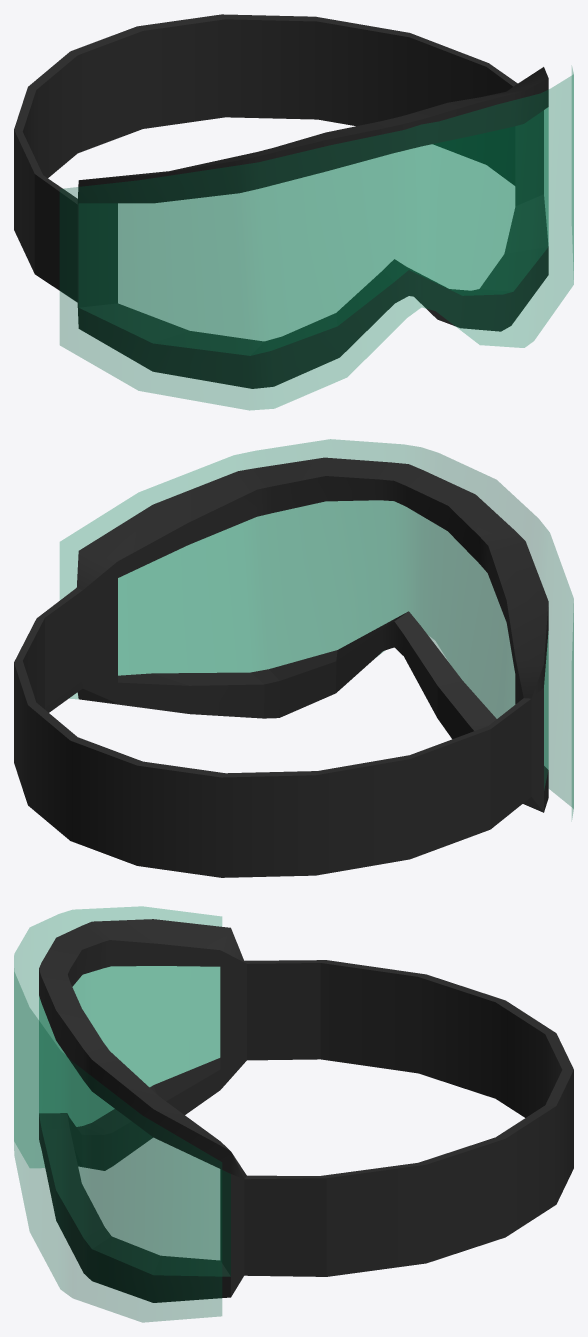
The model's file is goggles.fbx.
3 renders of one model, top to bottom at view 1: azimuth 30°, elevation 25°; view 2: azimuth 150°, elevation 25°; view 3: azimuth 270°, elevation 25°, orthographic.
Parts seen in each view (by area): view 1: goggles; view 2: goggles; view 3: goggles.
Part boxes in pixels (<box>): goggles: <box>14,14,573,410</box>; goggles: <box>14,439,573,877</box>; goggles: <box>14,906,573,1322</box>.
Bounding box in the file's own units: 3.19 × 1.63 × 3.07.
